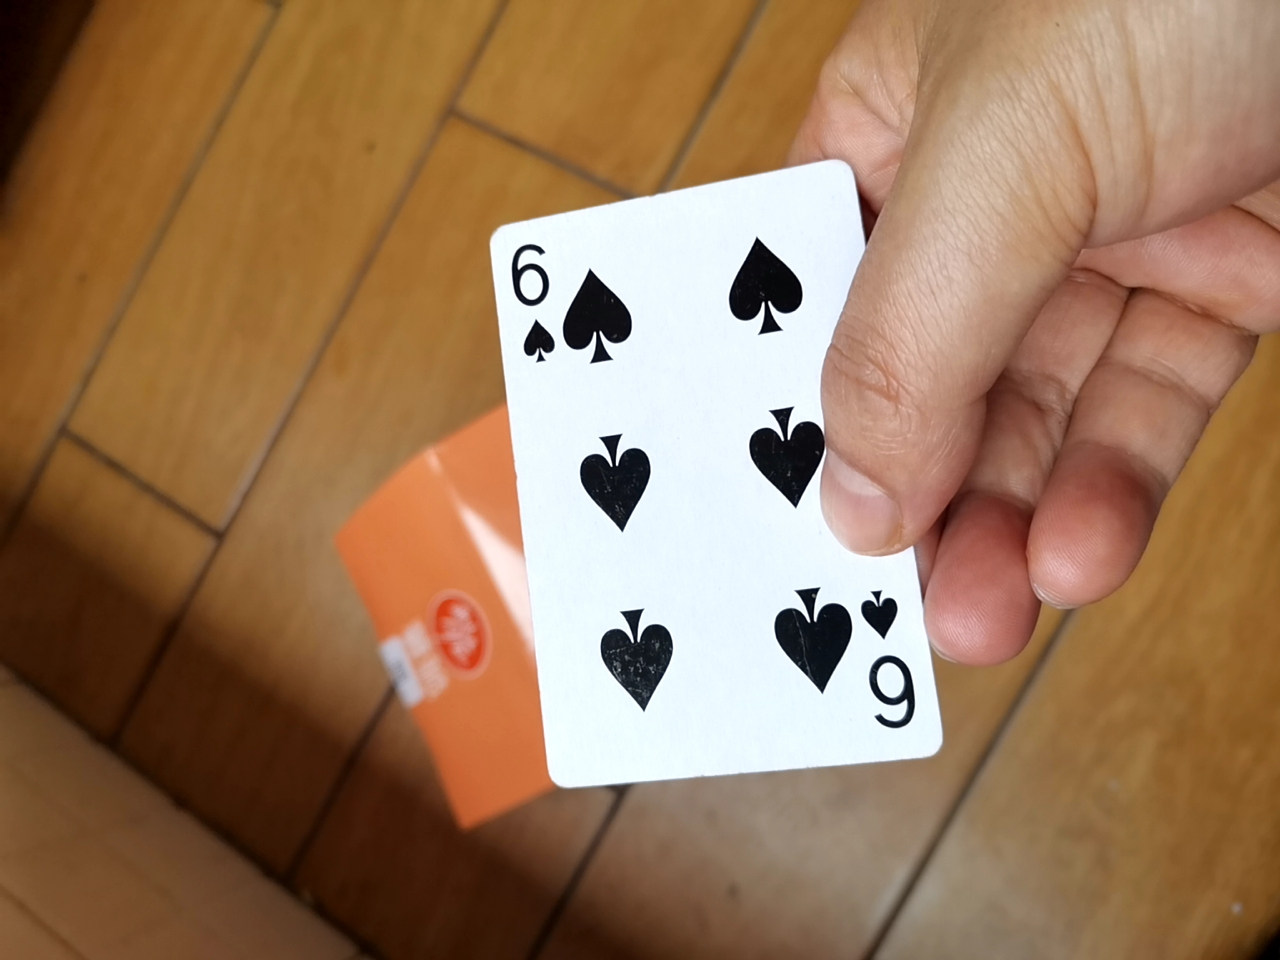ht 6: (463, 163, 904, 811)
